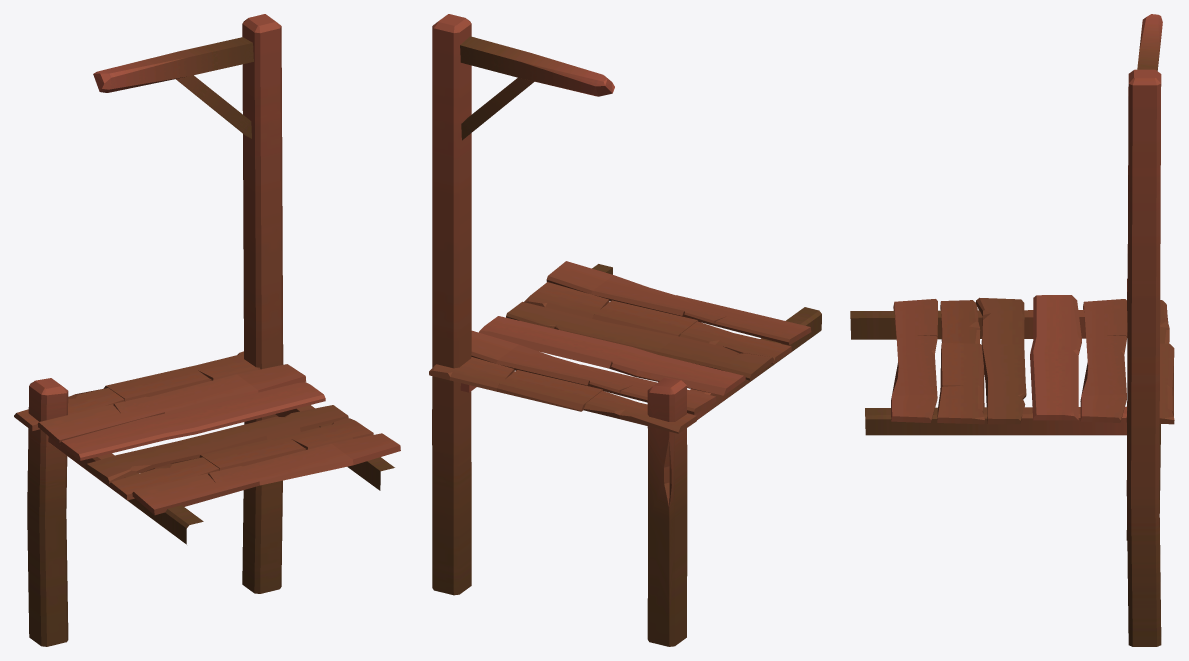
The picture shows the model from 3 angles, left to right: view 1: azimuth 30°, elevation 25°; view 2: azimuth 150°, elevation 25°; view 3: azimuth 270°, elevation 25°; orthographic projection.
Visible parts, largest first — view 1: PierPole; view 2: PierPole; view 3: PierPole.
Boxes of the visible parts, <box> form: PierPole: <box>14,14,400,646</box>; PierPole: <box>429,14,821,646</box>; PierPole: <box>850,14,1174,646</box>.
Size of the model in its own units: 2.48 by 5.32 by 2.76.
Materials: 1 (1 with a texture image).
